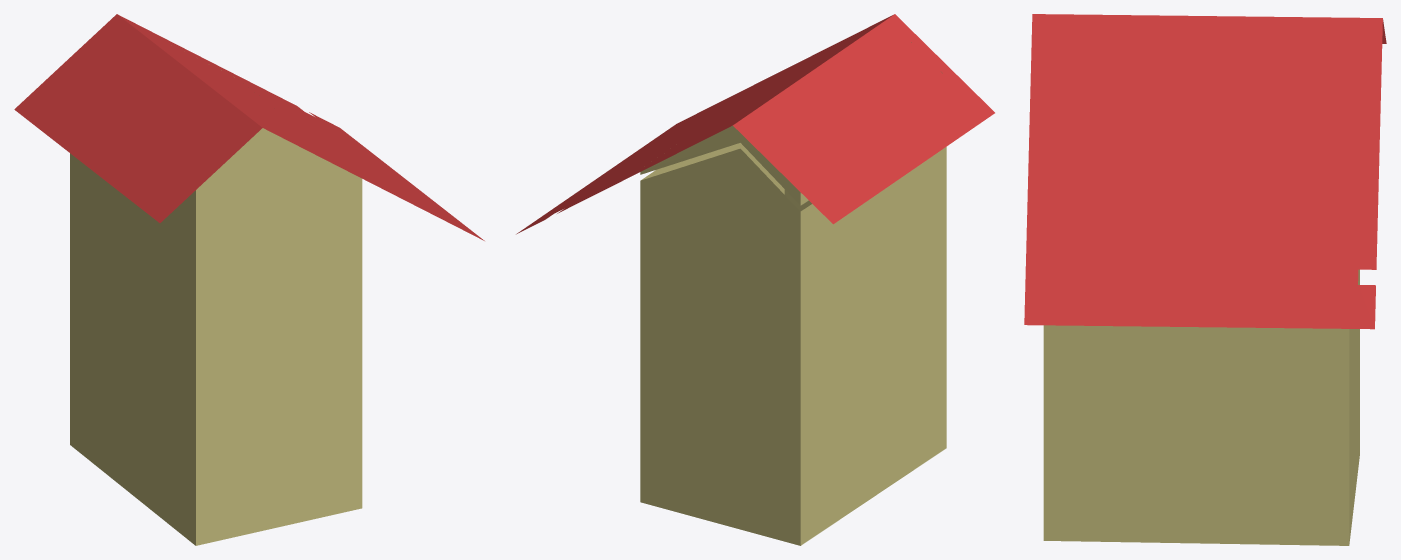
3 renders of one model, left to right at view 1: azimuth 30°, elevation 25°; view 2: azimuth 150°, elevation 25°; view 3: azimuth 270°, elevation 25°, orthographic. The views are drawn at different scales.
Bounding box in the file's own units: 6.02 × 5.03 × 7.18.
